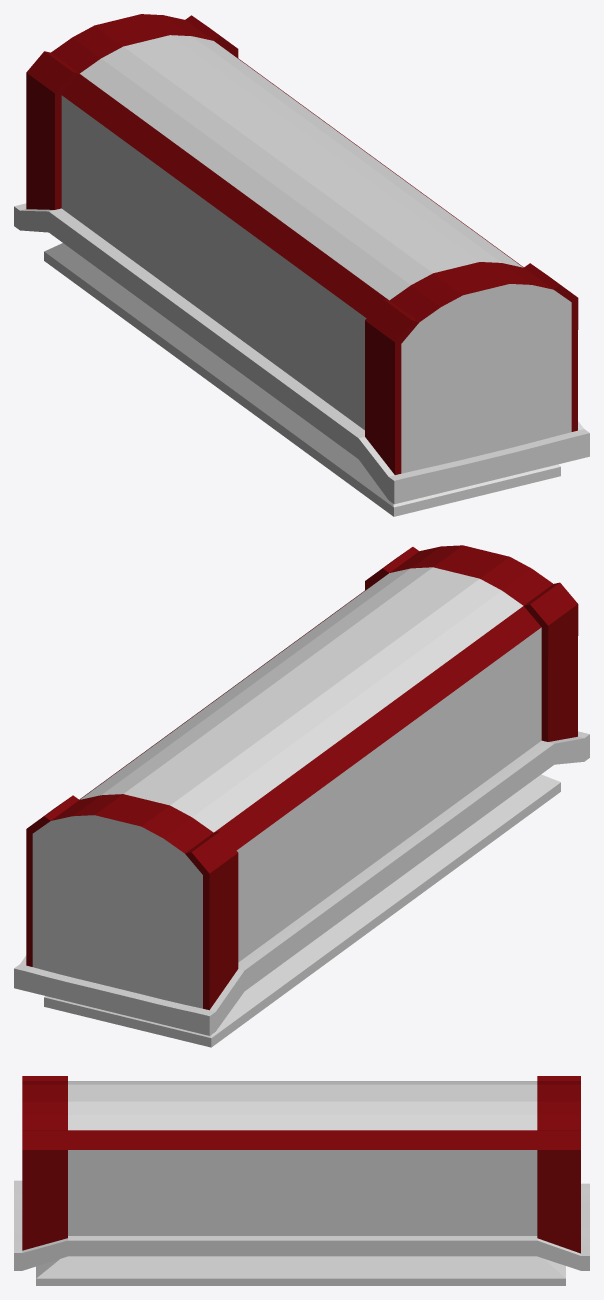
File: Train_MidRev10.fbx
3 renders of one model, top to bottom at view 1: azimuth 30°, elevation 25°; view 2: azimuth 150°, elevation 25°; view 3: azimuth 270°, elevation 25°, orthographic. The views are drawn at different scales.
Visible parts, largest first — view 1: Cube, Cube.002; view 2: Cube, Cube.002; view 3: Cube, Cube.002.
Boxes of the visible parts, left/top/right/bottom form: Cube: left=14, top=35, right=589, bottom=516; Cube.002: left=26, top=14, right=578, bottom=474; Cube: left=14, top=567, right=589, bottom=1047; Cube.002: left=26, top=545, right=578, bottom=1010; Cube: left=14, top=1081, right=589, bottom=1285; Cube.002: left=22, top=1076, right=580, bottom=1253.
Size of the model in its own units: 920 by 959 by 3094.
